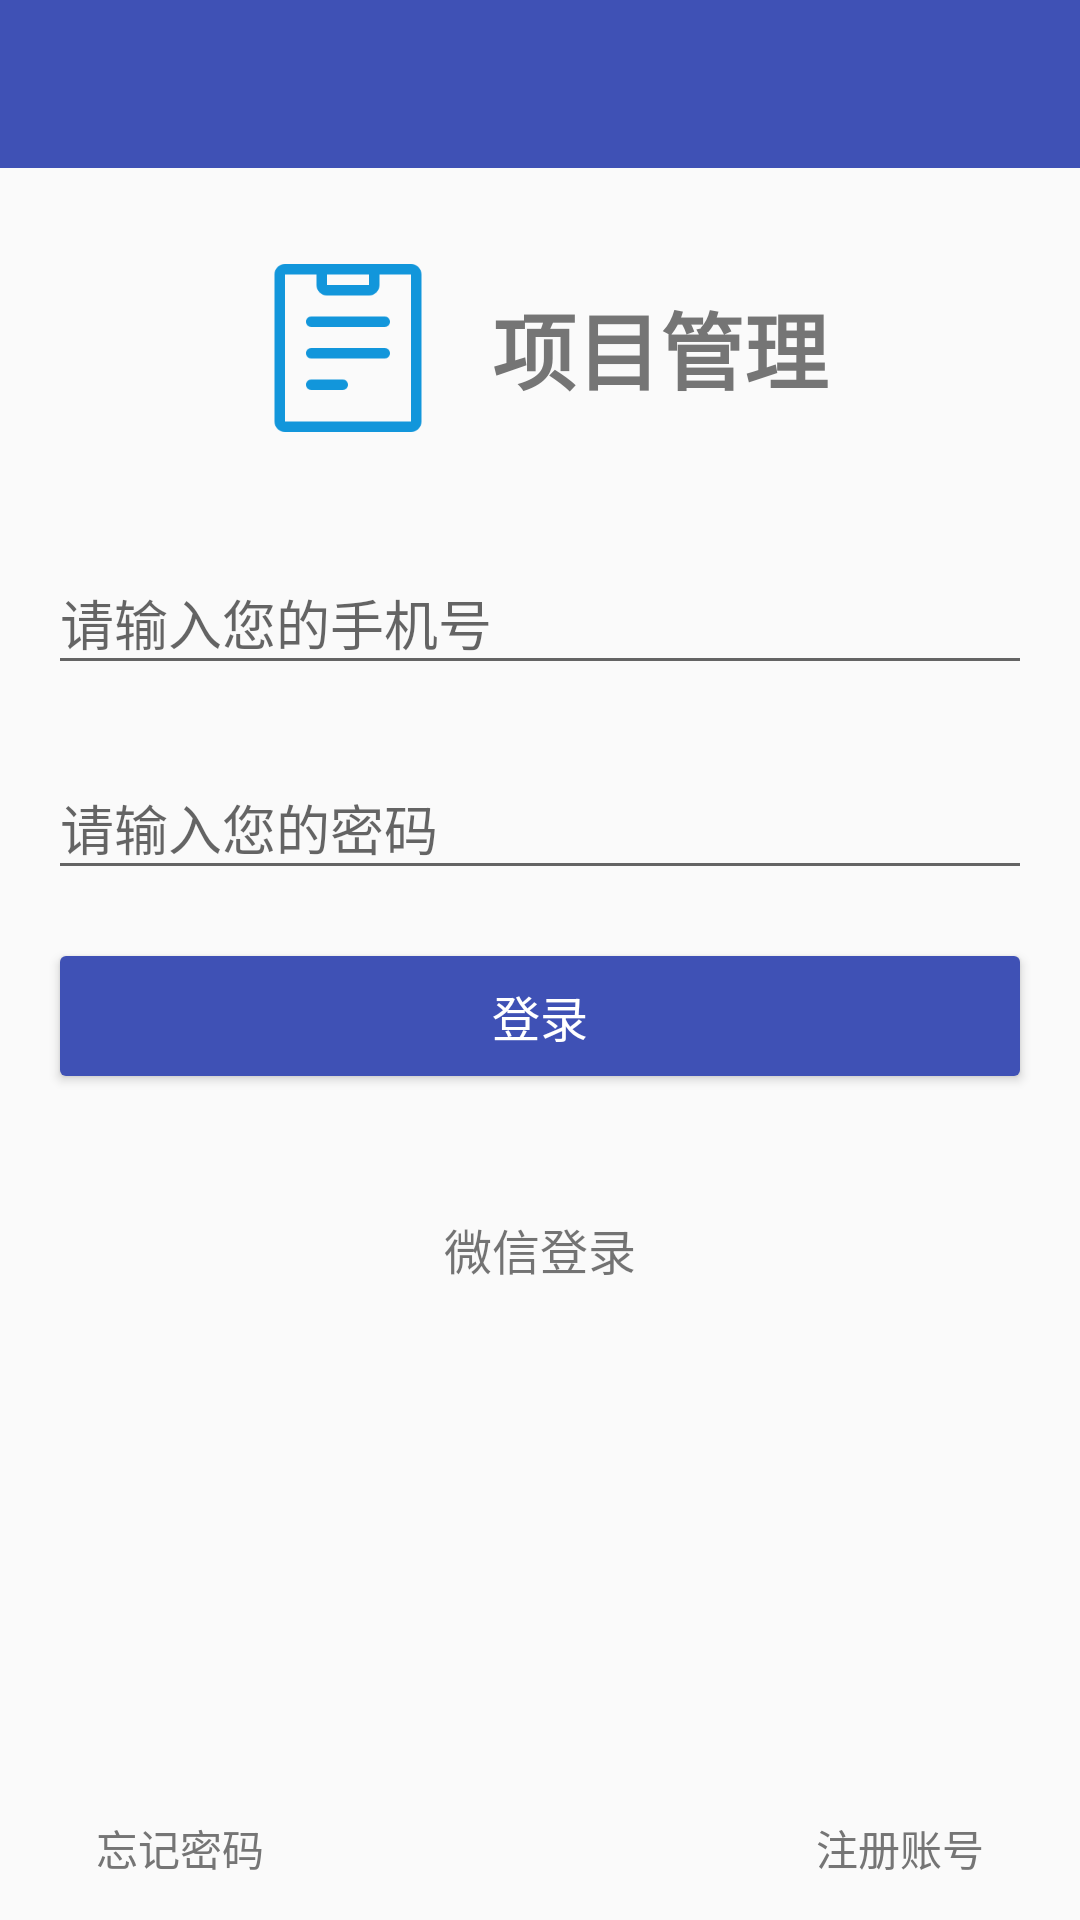

Screen size 1080*1920. Icon name, then its center in pixels as [x,y]:
project: [348,348]
